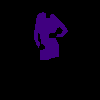maglione: (34, 12, 68, 60)
